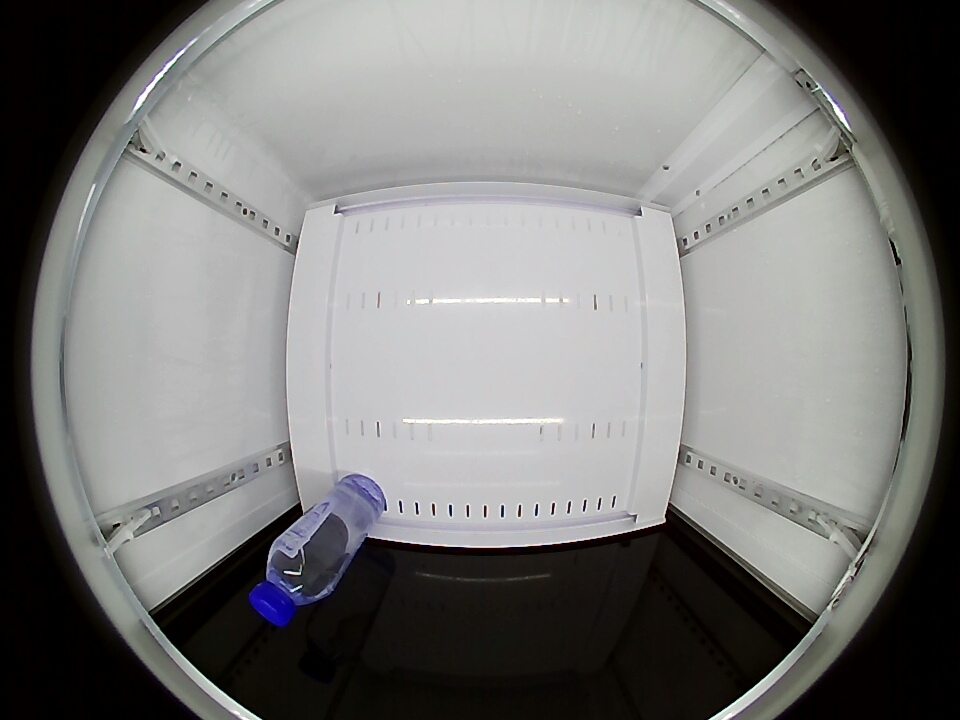aerbeisi: (248, 535, 341, 626)
